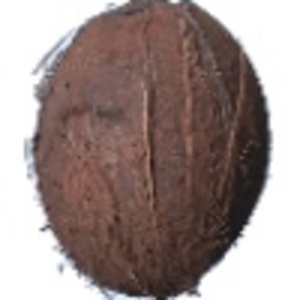coco: (24, 1, 272, 300)
